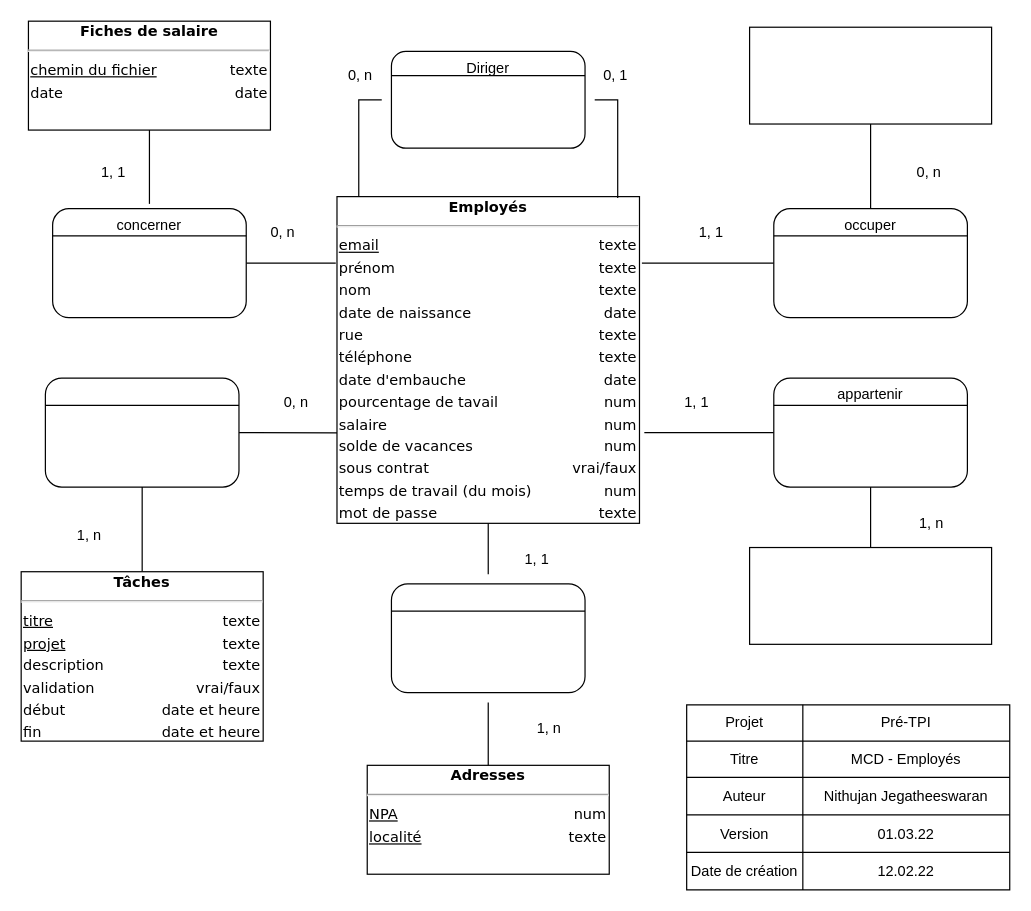
Some shapes in this 1031 by 911 pixel diagram are drawn without their labels. The box of each missing label's shape, as (x1, y1, x2, y2) in pixels:
Départements nom texte: (748, 546, 992, 644)
effectuer: (44, 377, 239, 487)
loger: (390, 583, 585, 693)
Postes nom texte: (748, 26, 992, 124)
